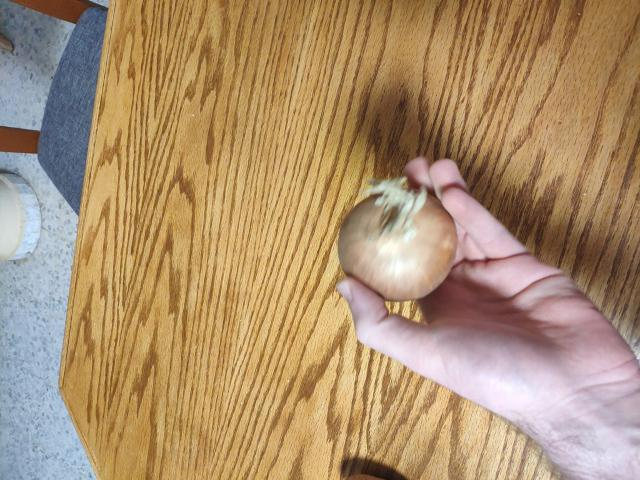onion: (339, 192, 464, 302)
